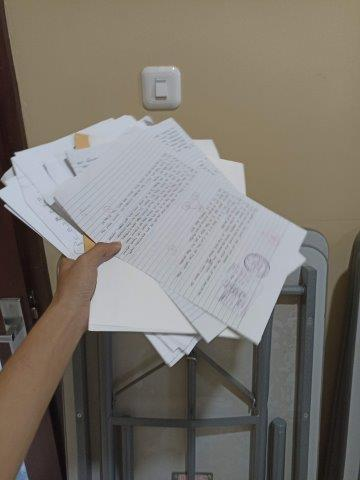kertas: (1, 115, 306, 365)
